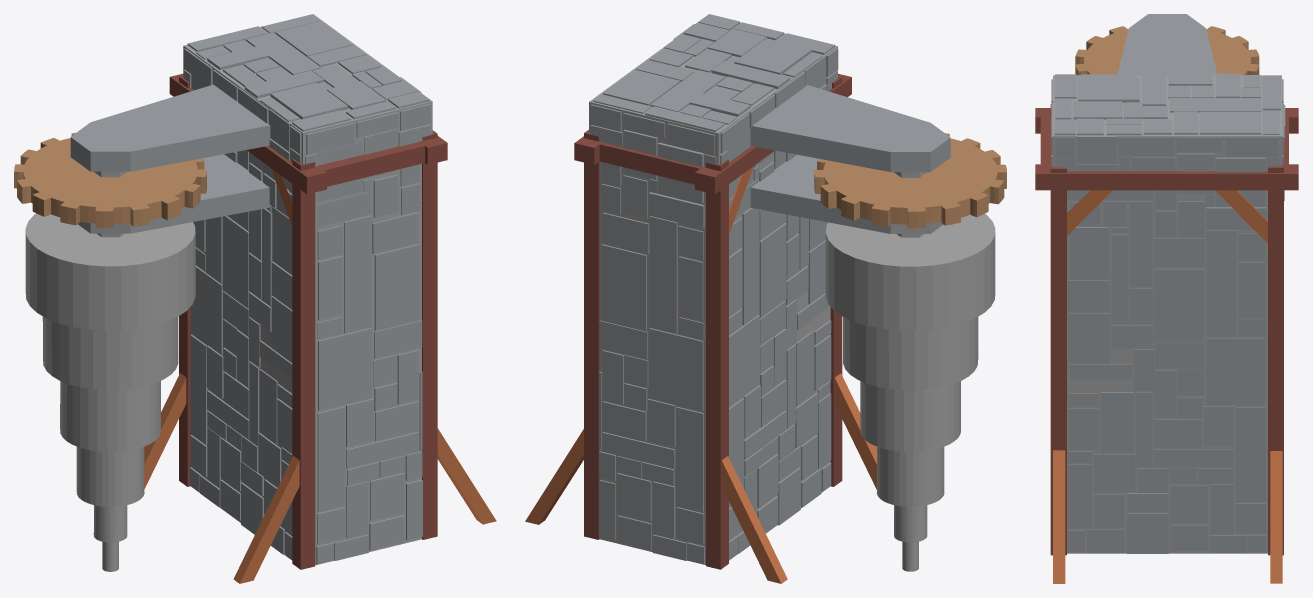
The model's file is Extractor.glb.
The picture shows the model from 3 angles, left to right: view 1: azimuth 30°, elevation 25°; view 2: azimuth 150°, elevation 25°; view 3: azimuth 270°, elevation 25°; orthographic projection. The views are drawn at different scales.
Parts seen in each view (by area): view 1: Support, Drill.001; view 2: Support, Drill.001; view 3: Support, Drill.001.
Part boxes in pixels (<box>): Support: <box>70,14,496,583</box>; Drill.001: <box>14,132,206,571</box>; Support: <box>525,14,950,583</box>; Drill.001: <box>814,133,1006,571</box>; Support: <box>1035,14,1298,583</box>; Drill.001: <box>1075,26,1259,75</box>.
Bounding box in the file's own units: 3.39 × 3.56 × 1.97.
